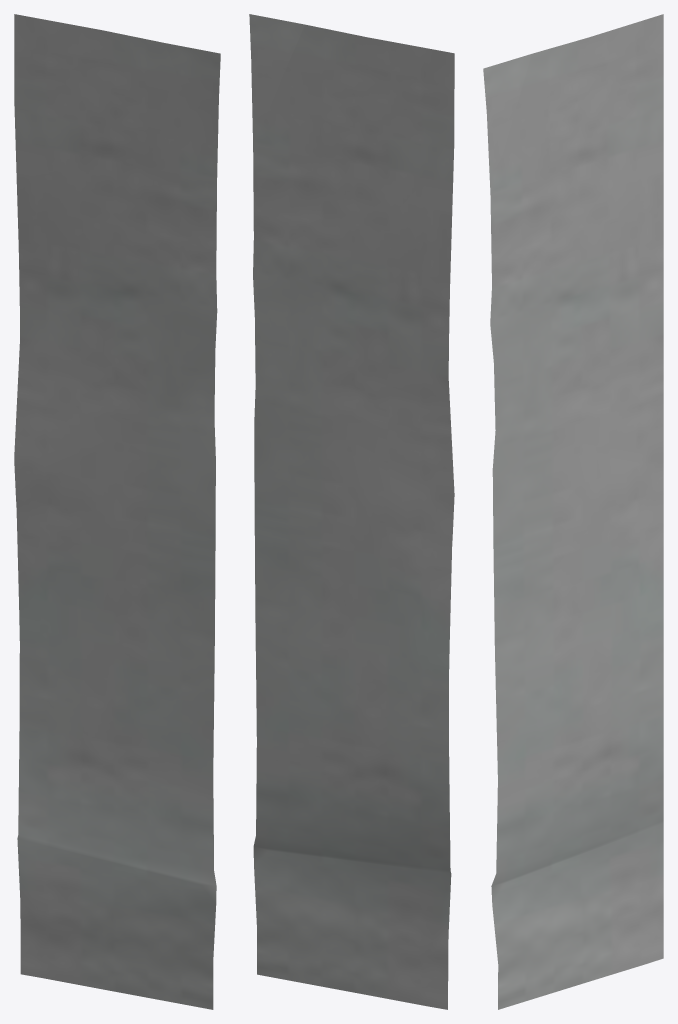
3 views of the same model, side by side, from view 1: azimuth 30°, elevation 25°; view 2: azimuth 210°, elevation 25°; view 3: azimuth 270°, elevation 25° (orthographic). The views are drawn at different scales.
Size of the model in its own units: 0.2529 by 2.03 by 0.3533.
1 material, 1 textured.
